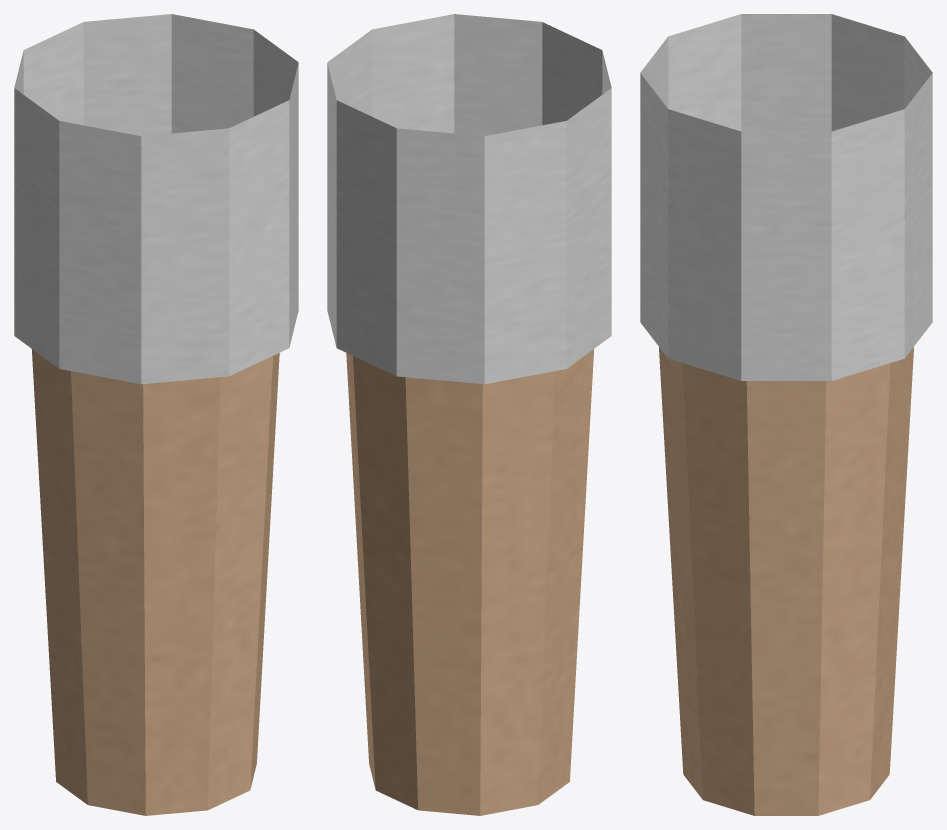
File: JugA_Muslo.obj
3 renders of one model, left to right at view 1: azimuth 30°, elevation 25°; view 2: azimuth 150°, elevation 25°; view 3: azimuth 270°, elevation 25°, orthographic.
Bounding box in the file's own units: 0.1617 × 0.45 × 0.17.
Materials: 1 (1 with a texture image).
